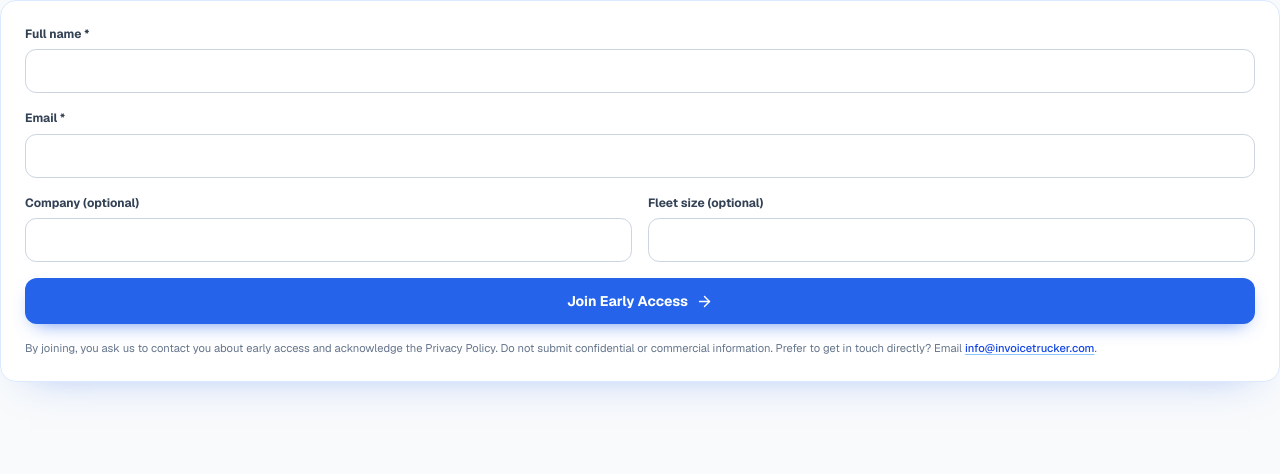
Test case: NewsletterForm › explains a rate-limited response
In the field labelled "Full name *": (640, 71) left=25, top=49, right=1255, bottom=93, type "Avery Demo"
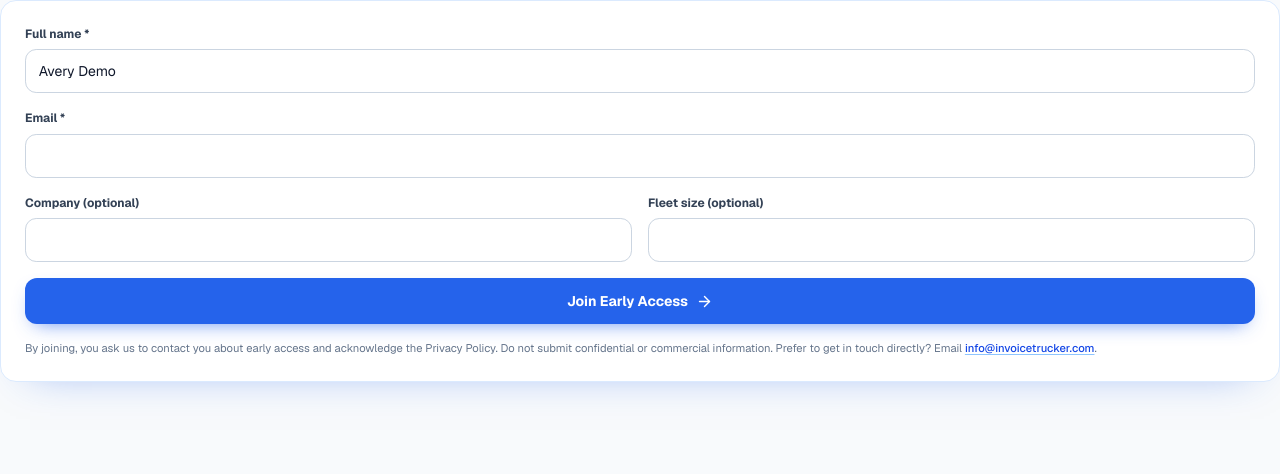
In the field labelled "Email *": (640, 156) left=25, top=134, right=1255, bottom=178, type "avery@invoicetrucker.example"
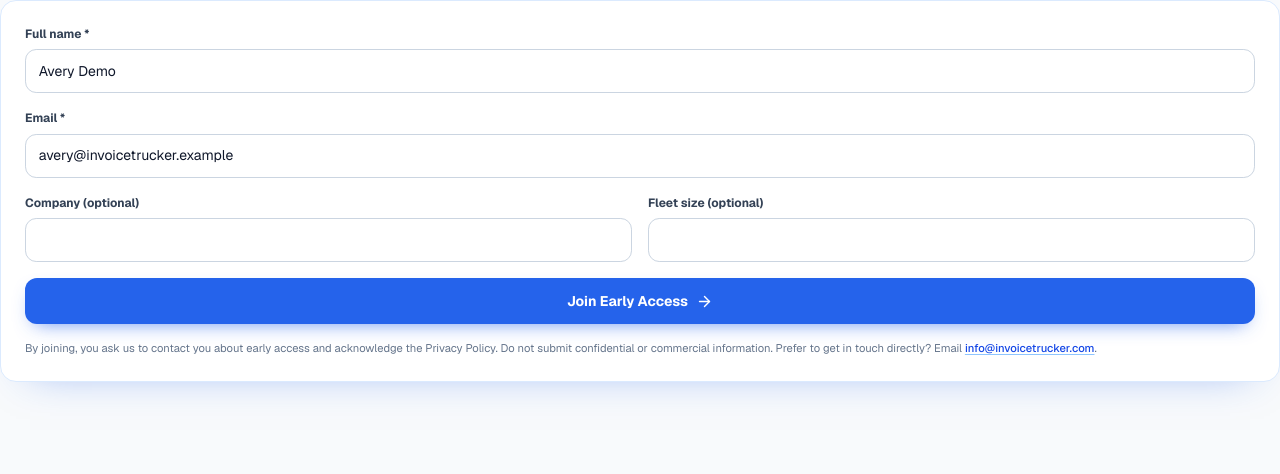
Click the button "Join Early Access": (640, 301) left=25, top=278, right=1255, bottom=324
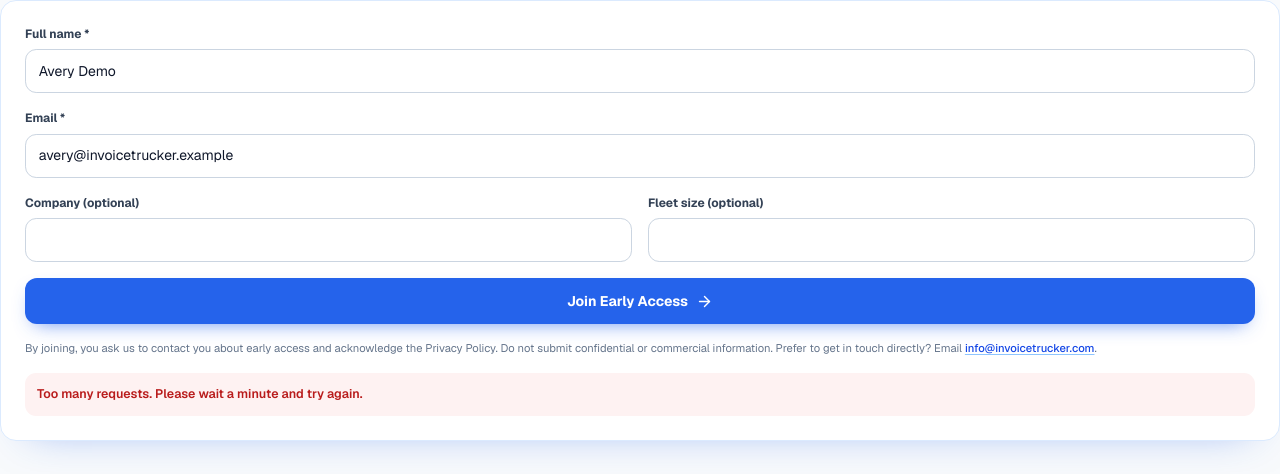
Expected: the message shows "wait a minute and try again", left=37, top=385, right=363, bottom=402
